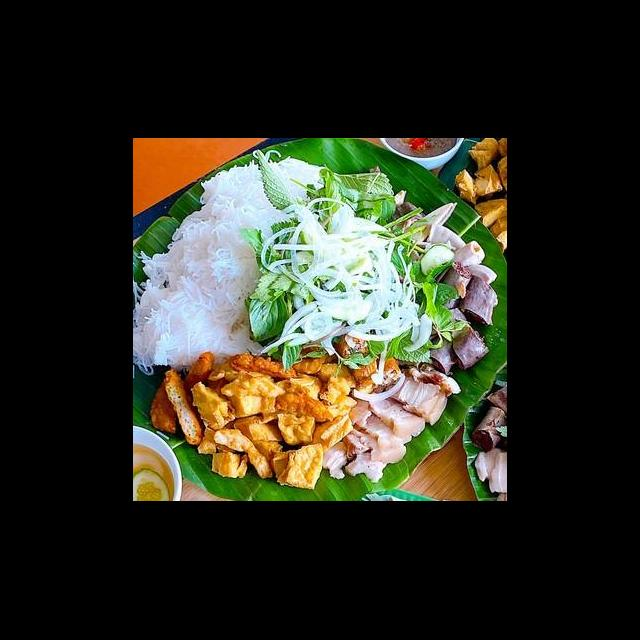bun: (262, 140, 490, 334)
bun dau: (141, 163, 507, 502)
cha com: (184, 152, 294, 217), (258, 227, 286, 300), (216, 274, 246, 332)
dau hu: (142, 191, 282, 360), (380, 448, 507, 502)
doi sun: (255, 423, 382, 495)
thit heo: (148, 315, 280, 457)
